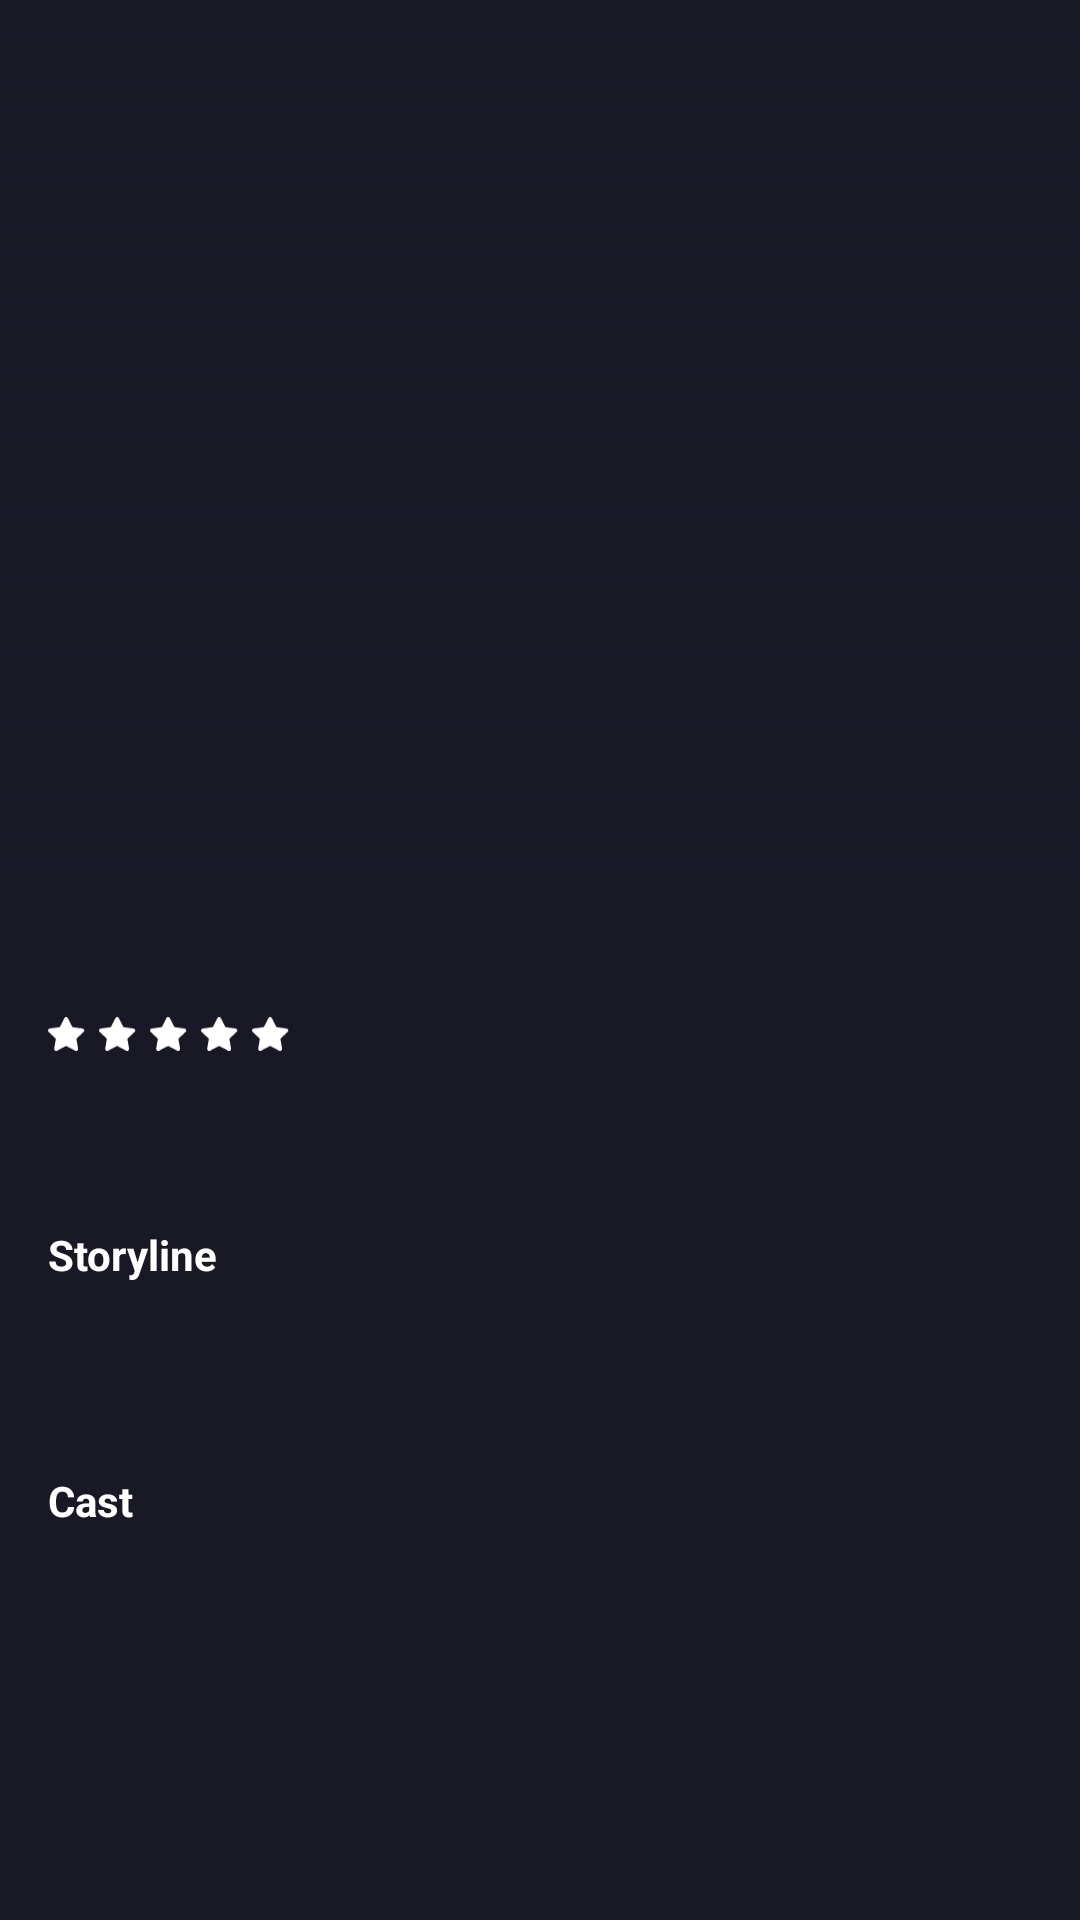

Icon click points for this 1080*1920 phone screenshot, format [x,y]:
star: [66,1034], [117,1034], [168,1034], [219,1034], [270,1034]
